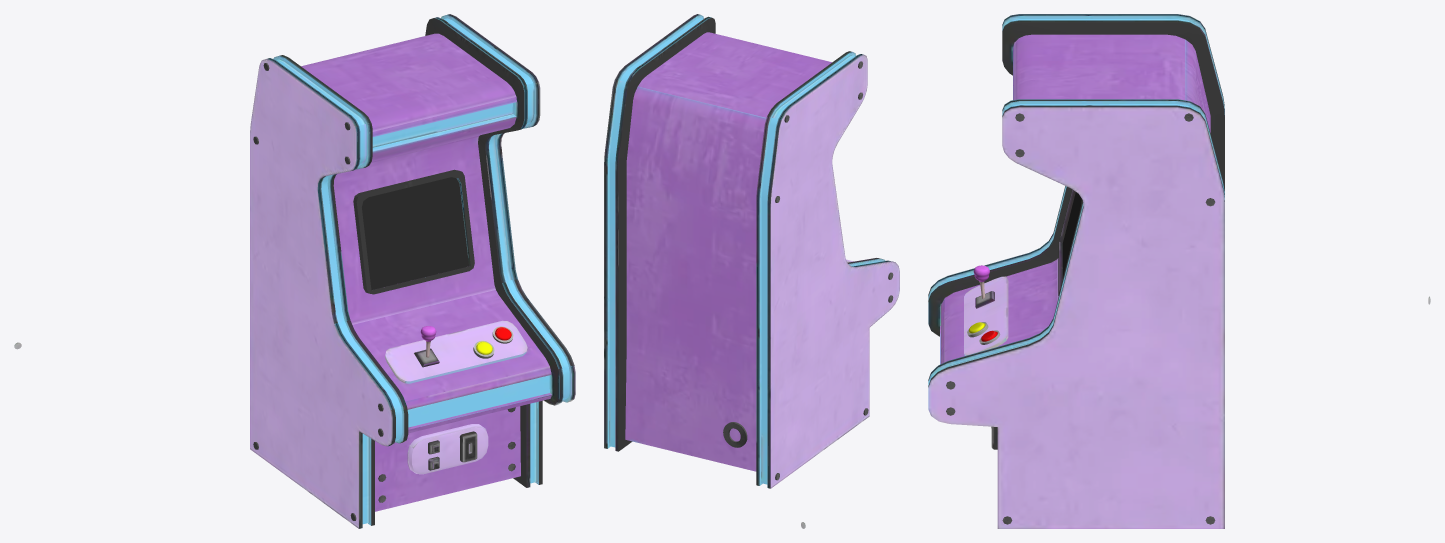
File: arcade-machine.compressed.glb
3 renders of one model, left to right at view 1: azimuth 30°, elevation 25°; view 2: azimuth 150°, elevation 25°; view 3: azimuth 270°, elevation 25°, orthographic. The views are drawn at different scales.
Visible parts, largest first — view 1: defaultMaterial.007, defaultMaterial; view 2: defaultMaterial.007, defaultMaterial.002; view 3: defaultMaterial.007, defaultMaterial.
Part boxes in pixels (left/top/right/bottom): defaultMaterial.007: left=14, top=14, right=575, bottom=528; defaultMaterial: left=362, top=177, right=468, bottom=290; defaultMaterial.007: left=604, top=14, right=899, bottom=528; defaultMaterial.002: left=723, top=422, right=747, bottom=447; defaultMaterial.007: left=928, top=14, right=1430, bottom=528; defaultMaterial: left=1062, top=192, right=1081, bottom=278.
Bounding box in the file's own units: 50.11 × 60.15 × 64.94.
6 materials, 5 textured.
